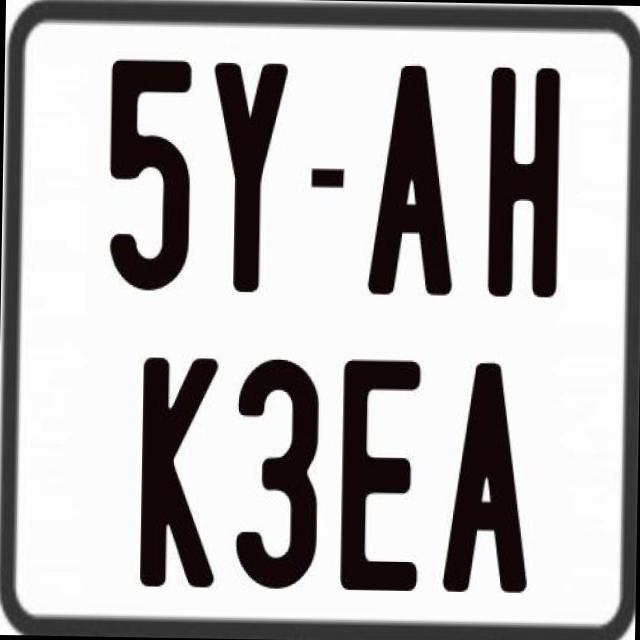3: (232, 357, 322, 597)
5: (106, 54, 190, 295)
A: (441, 360, 537, 593), (368, 60, 457, 295)
E: (337, 356, 419, 590)
H: (487, 67, 561, 302)
K: (136, 356, 222, 596)
Y: (208, 61, 290, 290)
